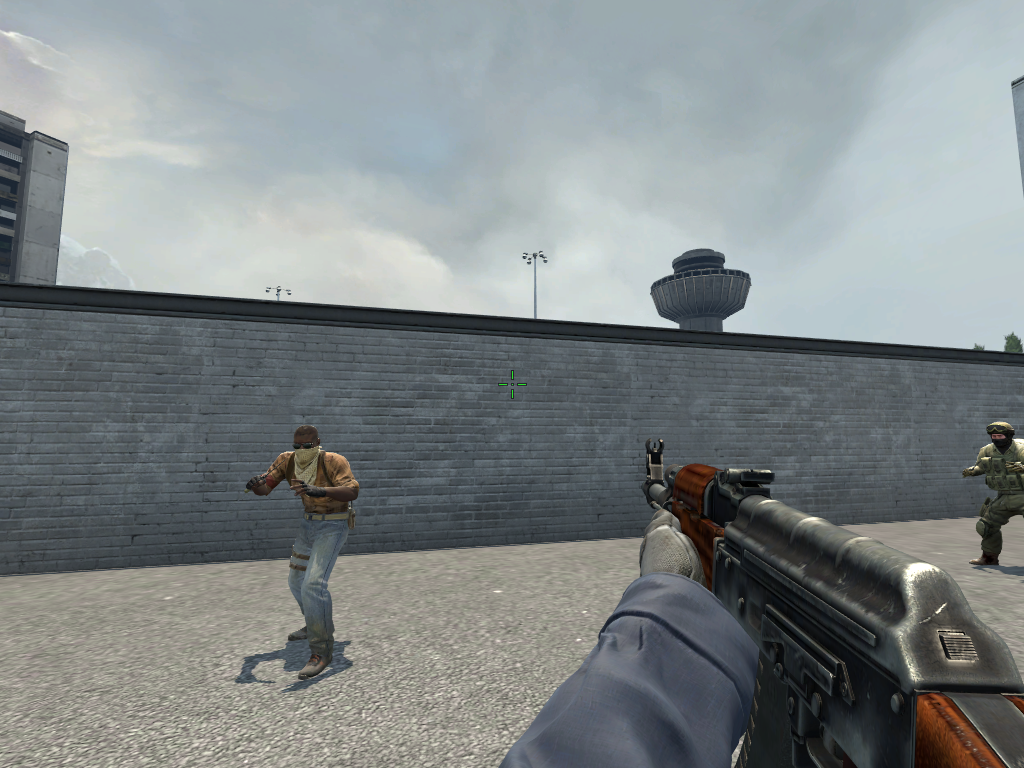ct head: (989, 422, 1013, 450)
tr head: (293, 426, 319, 464)
